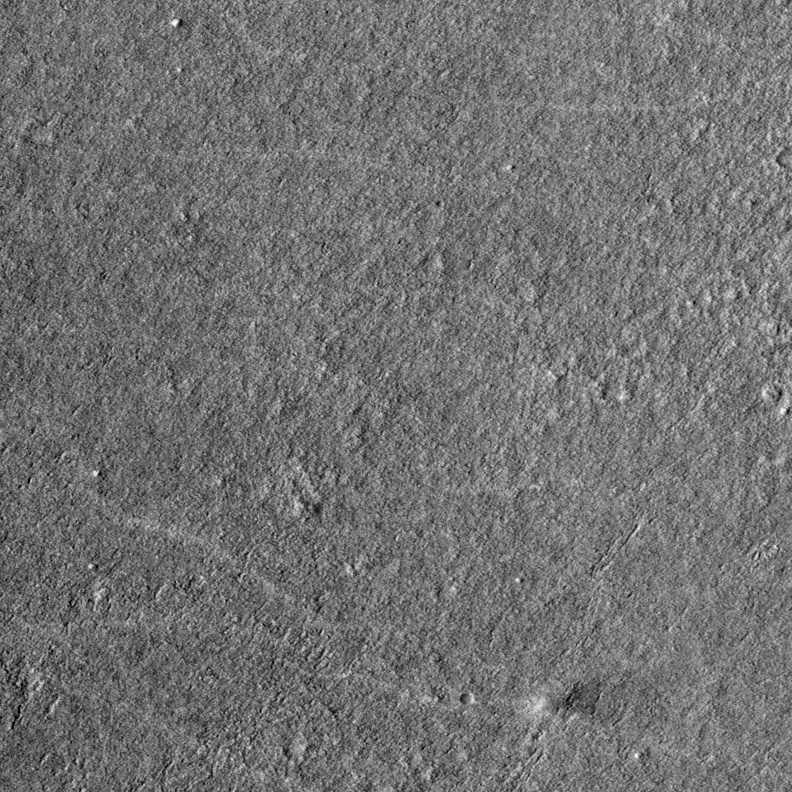dust_devil: (525, 675, 614, 731)
